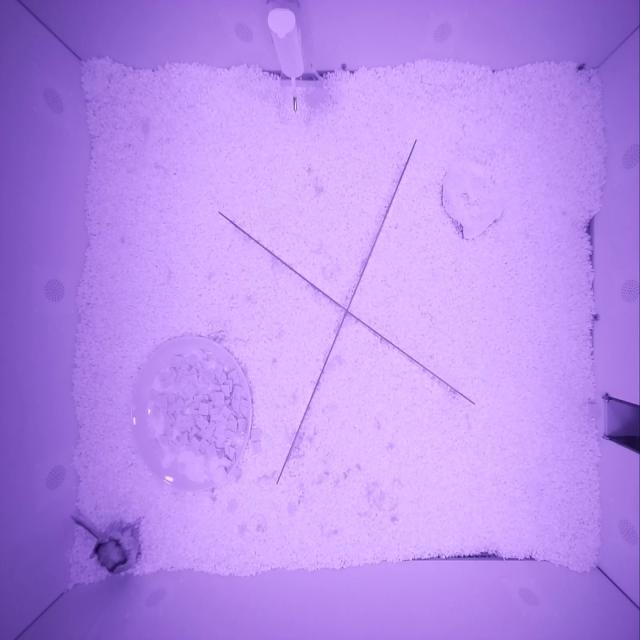adult_front: (90, 526, 140, 574)
